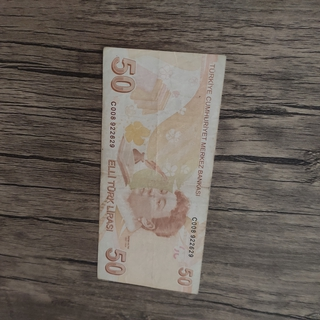50TLBack: (96, 46, 227, 294)
